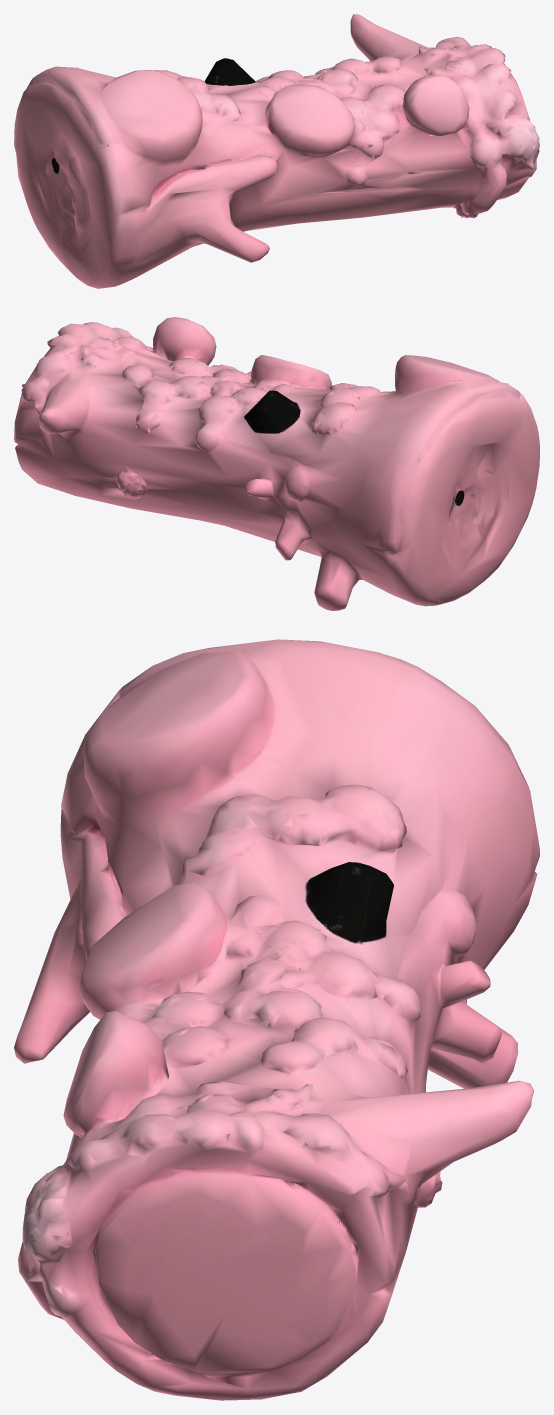
File: clay-log.glb
3 views of the same model, one above another, from view 1: azimuth 30°, elevation 25°; view 2: azimuth 150°, elevation 25°; view 3: azimuth 270°, elevation 25° (orthographic). The views are drawn at different scales.
Bounding box in the file's own units: 1.91 × 0.8681 × 1.03.
Materials: 1 (1 with a texture image).
